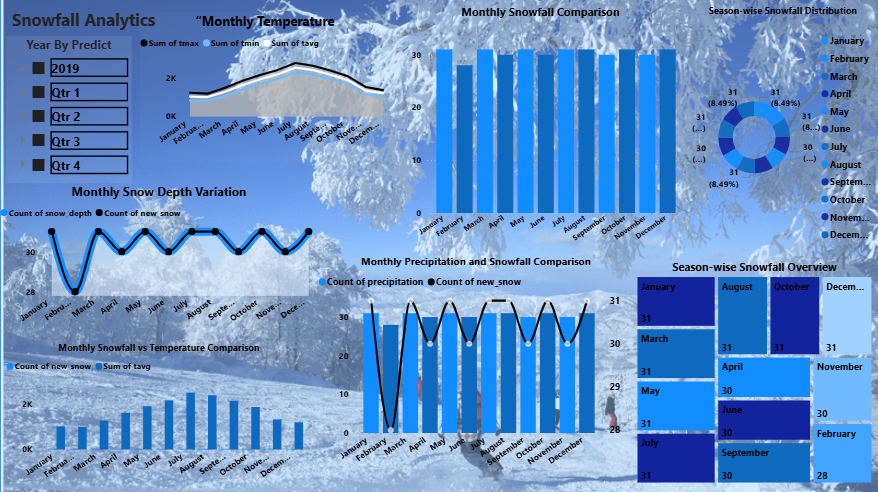

This screenshot's page, from the dashboard's own definition file:
{"tool":"powerbi","page":{"name":"Page 1","canvas":[1280,720],"ordinal":0},"visuals":[{"type":"image","box":[10.1,0,1270.1,720],"z":0},{"type":"shape","box":[10.1,0,1270.1,720],"z":1000},{"type":"lineChart","title":"“Monthly Temperature ","fields":{"Y":["Sum(nyc_temperature.tmax)","Sum(nyc_temperature.tmin)","Sum(nyc_temperature.tavg)"],"Category":["nyc_temperature.date.Variation.Date Hierarchy.Month"]},"box":[211.7,23,370.1,217.4],"z":2000},{"type":"textbox","box":[10.1,11.5,240.5,57.6],"z":3000},{"type":"slicer","title":"Year By Predict","fields":{"Values":["nyc_temperature.date.Variation.Date Hierarchy.Year","nyc_temperature.date.Variation.Date Hierarchy.Quarter","nyc_temperature.date.Variation.Date Hierarchy.Month","nyc_temperature.date.Variation.Date Hierarchy.Day"]},"box":[18.7,57.6,181.4,211.7],"z":4000},{"type":"clusteredColumnChart","title":"Monthly Snowfall Comparison","fields":{"Y":["CountNonNull(nyc_temperature.new_snow)"],"Category":["nyc_temperature.date.Variation.Date Hierarchy.Month"]},"box":[581.8,11.5,413.3,360],"z":5000},{"type":"lineClusteredColumnComboChart","title":"Monthly Snowfall vs Temperature Comparison","fields":{"Category":["nyc_temperature.date.Variation.Date Hierarchy.Month"],"Y":["CountNonNull(nyc_temperature.new_snow)","Sum(nyc_temperature.tavg)"]},"box":[18.7,496.8,440.6,223.2],"z":6000},{"type":"lineClusteredColumnComboChart","title":"Monthly Precipitation and Snowfall Comparison","fields":{"Y":["CountNonNull(nyc_temperature.precipitation)"],"Y2":["CountNonNull(nyc_temperature.new_snow)"],"Category":["nyc_temperature.date.Variation.Date Hierarchy.Month"]},"box":[468,371.5,455,334.1],"z":7000},{"type":"areaChart","title":"Monthly Snow Depth Variation","fields":{"Category":["nyc_temperature.date.Variation.Date Hierarchy.Month"],"Y":["CountNonNull(nyc_temperature.snow_depth)","CountNonNull(nyc_temperature.new_snow)"]},"box":[10.1,269.3,457.9,227.5],"z":8000},{"type":"donutChart","title":"Season-wise Snowfall Distribution","fields":{"Y":["CountNonNull(nyc_temperature.new_snow)"],"Category":["nyc_temperature.date.Variation.Date Hierarchy.Month"]},"box":[995,11.5,285.1,367.2],"z":9000},{"type":"treemap","title":"Season-wise Snowfall Overview","fields":{"Values":["CountNonNull(nyc_temperature.new_snow)"],"Group":["nyc_temperature.date.Variation.Date Hierarchy.Month"]},"box":[923,378.7,347,326.9],"z":10000}]}

Visuals, with their boxes in screenshot pixels (x1, y1, x2, y2), scaled from the page's 1280x720 canvas onto the 878x492 screenshot:
image: <region>7, 0, 877, 491</region>
shape: <region>7, 0, 877, 491</region>
"“Monthly Temperature " lineChart: <region>145, 16, 399, 164</region>
textbox: <region>7, 8, 172, 47</region>
"Year By Predict" slicer: <region>13, 39, 137, 184</region>
"Monthly Snowfall Comparison" clusteredColumnChart: <region>399, 8, 683, 254</region>
"Monthly Snowfall vs Temperature Comparison" lineClusteredColumnComboChart: <region>13, 339, 315, 491</region>
"Monthly Precipitation and Snowfall Comparison" lineClusteredColumnComboChart: <region>321, 254, 633, 482</region>
"Monthly Snow Depth Variation" areaChart: <region>7, 184, 321, 339</region>
"Season-wise Snowfall Distribution" donutChart: <region>683, 8, 877, 259</region>
"Season-wise Snowfall Overview" treemap: <region>633, 259, 871, 482</region>
